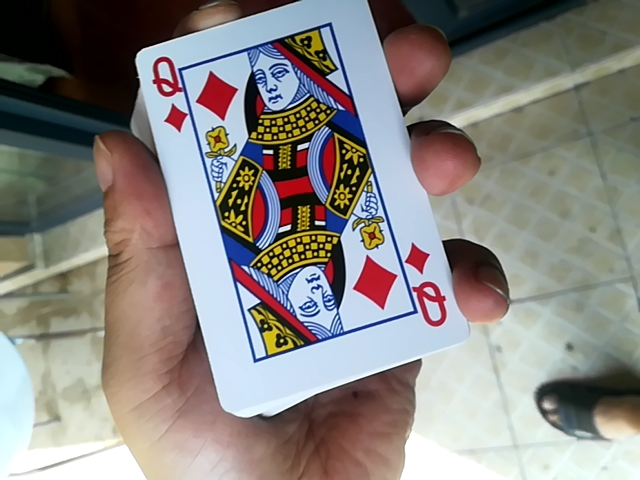fk q: (137, 7, 450, 436)
